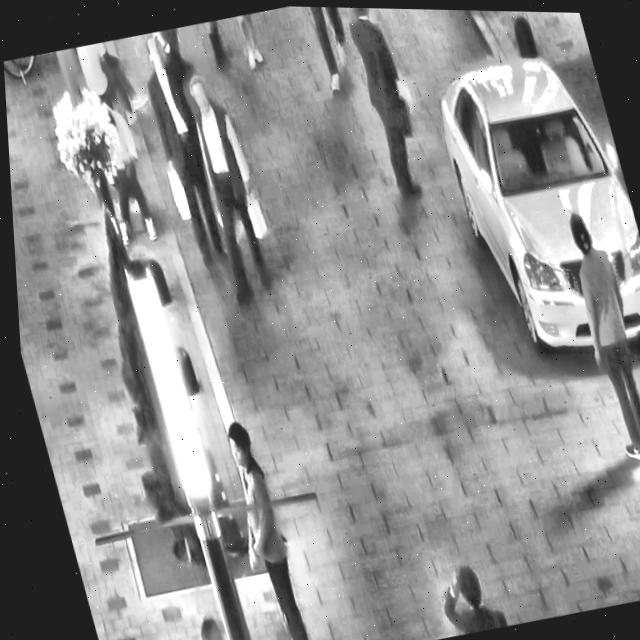light_vehicle: (414, 19, 640, 372)
